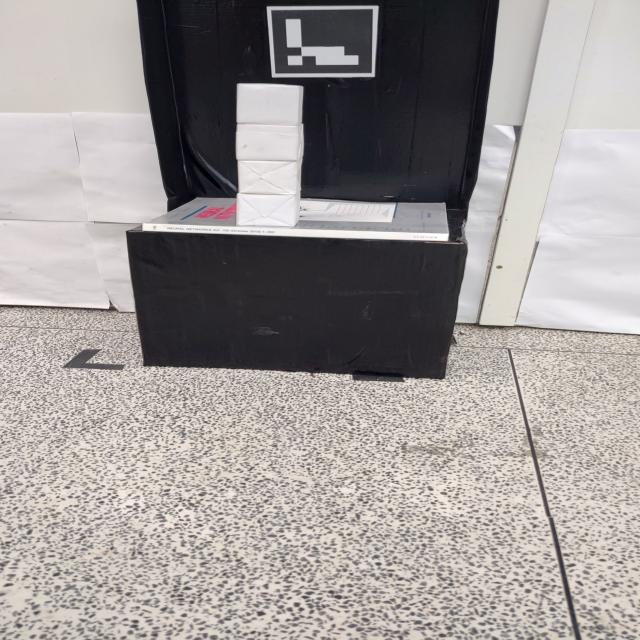bale: (233, 83, 305, 126), (234, 124, 305, 162), (236, 158, 304, 195), (235, 192, 301, 228)
